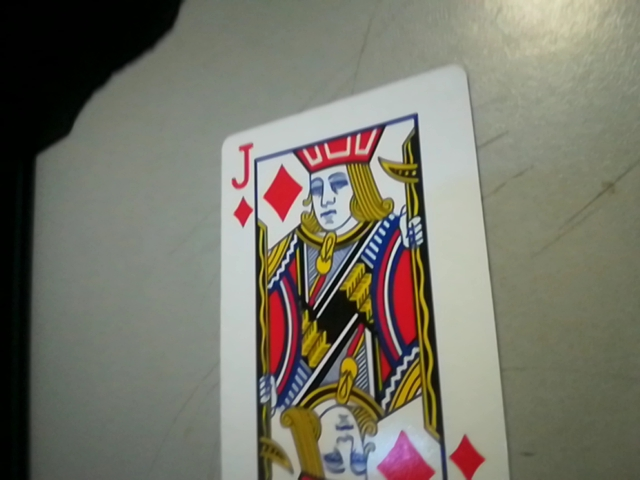fk j: (218, 134, 262, 230)
